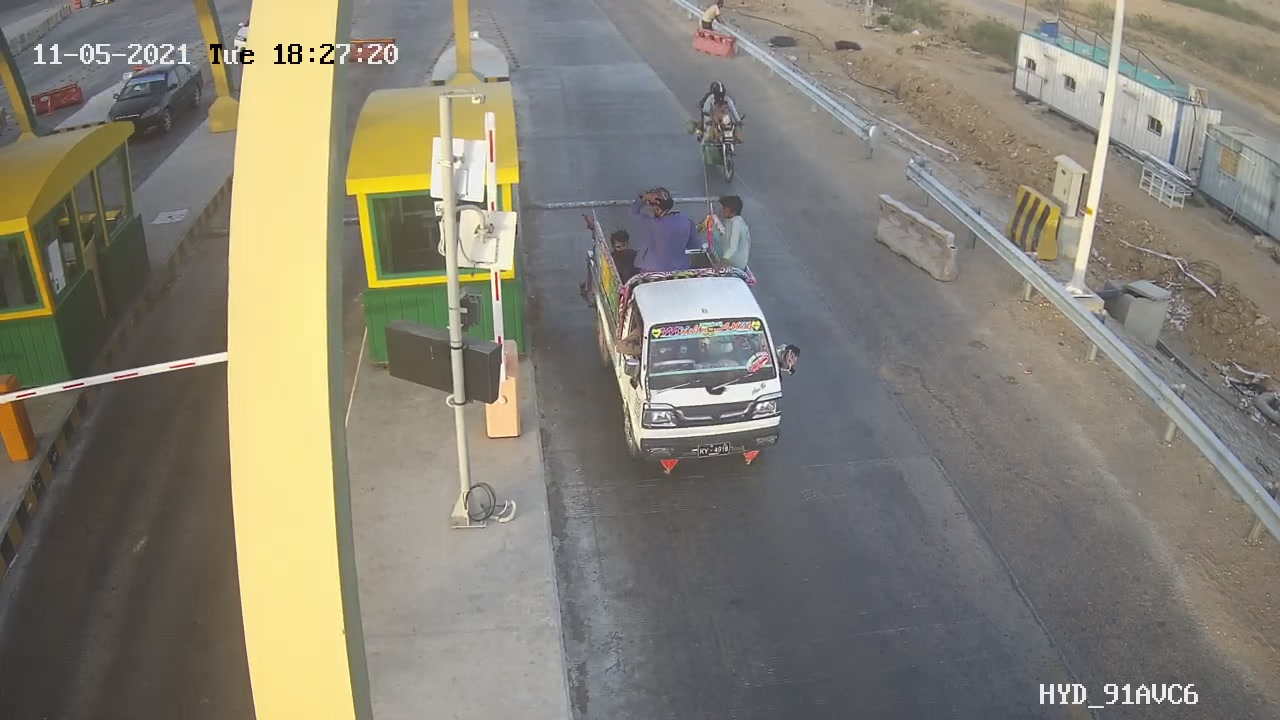F1: (583, 240, 796, 487)
